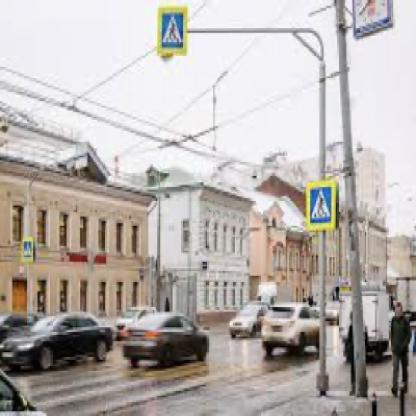crosswalk: (309, 184, 331, 221), (161, 11, 183, 47)
trafficlight: (23, 242, 30, 256)
